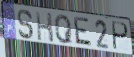2: (94, 20, 110, 51)
E: (74, 16, 94, 48)
H: (35, 11, 55, 44)
P: (112, 20, 130, 52)
Q: (54, 14, 74, 45)
S: (17, 8, 35, 40)
